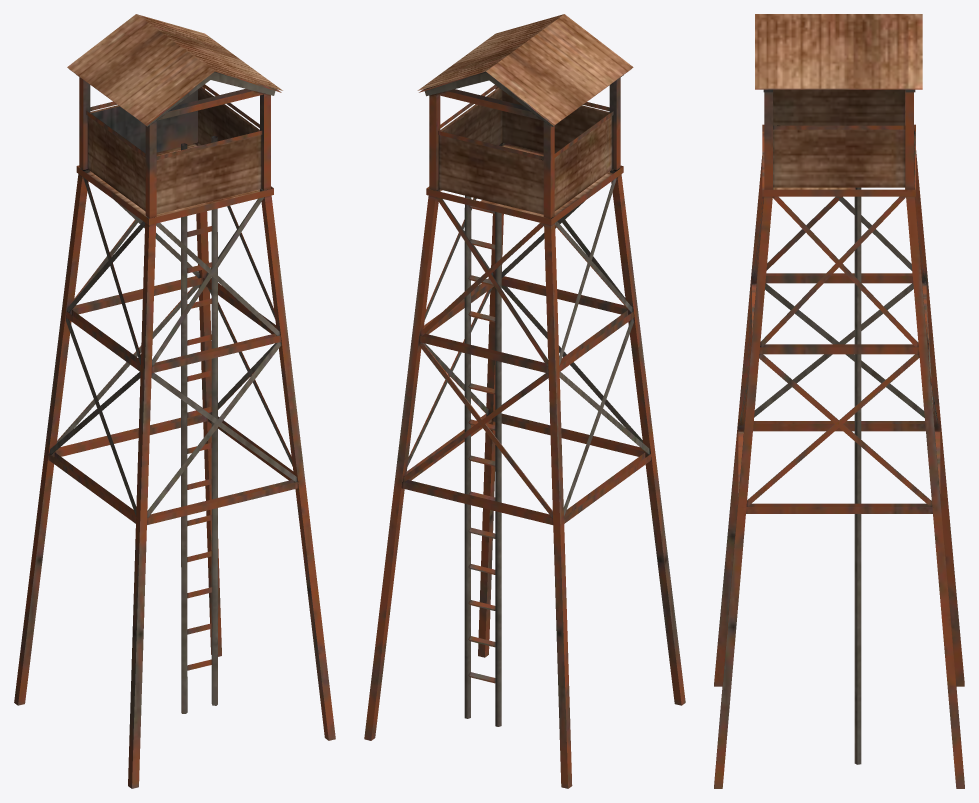
File: venue-judges.glb
3 renders of one model, left to right at view 1: azimuth 30°, elevation 25°; view 2: azimuth 150°, elevation 25°; view 3: azimuth 270°, elevation 25°, orthographic. The views are drawn at different scales.
Parts seen in each view (by area): view 1: watchtower_watchtower_0; view 2: watchtower_watchtower_0; view 3: watchtower_watchtower_0.
Boxes of the visible parts, x1,y1,x2,y2 form: watchtower_watchtower_0: [14, 14, 335, 788]; watchtower_watchtower_0: [364, 14, 685, 788]; watchtower_watchtower_0: [714, 14, 964, 788].
Size of the model in its own units: 63.73 by 203 by 63.73.
Materials: 1 (1 with a texture image).
